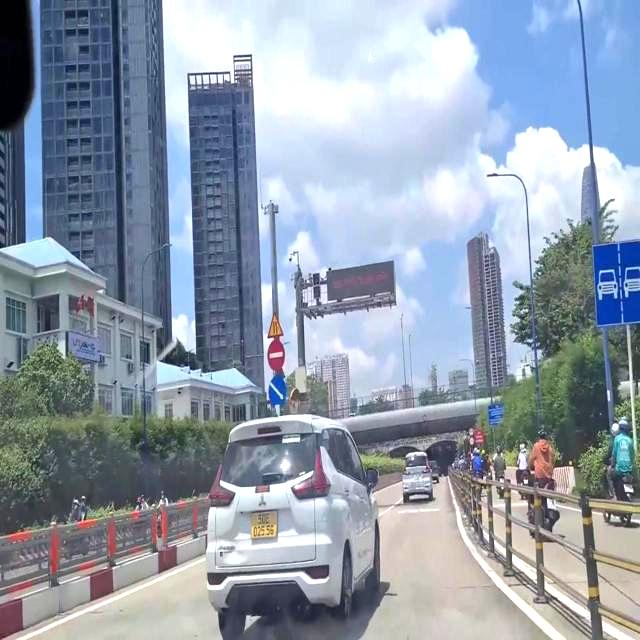Cấm đi ngược chiều: (266, 337, 287, 372)
Hướng phải đi vòng sang phải: (267, 374, 286, 406)
Đường hẹp: (267, 309, 284, 337)
